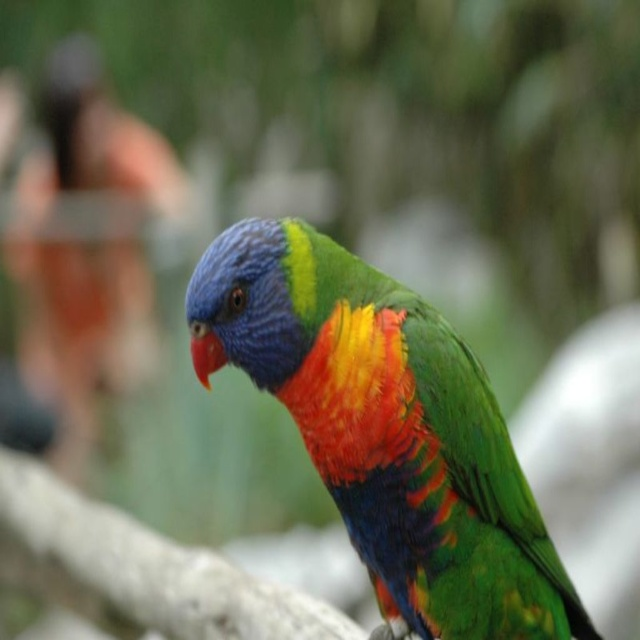Parrot: (185, 213, 602, 639)
